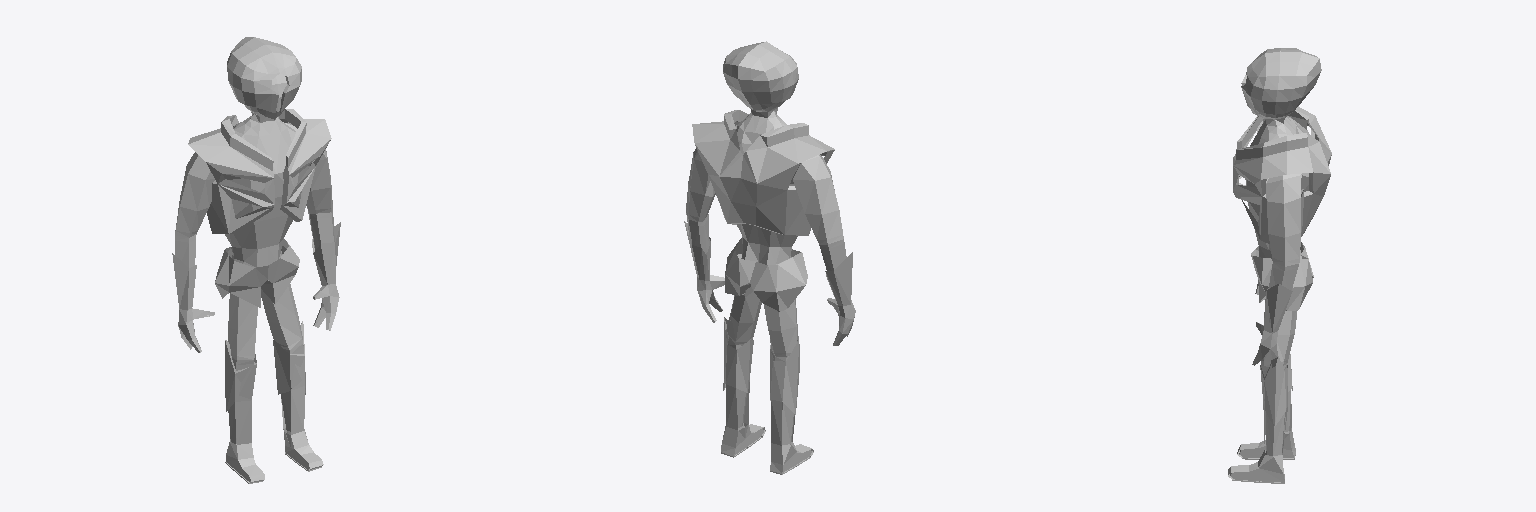
Rendered from dummy0.obj.
3 renders of one model, left to right at view 1: azimuth 30°, elevation 25°; view 2: azimuth 150°, elevation 25°; view 3: azimuth 270°, elevation 25°, orthographic.
Visible parts, largest first — view 1: Cube.001_Cube.006; view 2: Cube.001_Cube.006; view 3: Cube.001_Cube.006.
Boxes of the visible parts, box(x1,y1,x2,y2) form: Cube.001_Cube.006: box(172, 37, 340, 483); Cube.001_Cube.006: box(684, 41, 855, 474); Cube.001_Cube.006: box(1228, 48, 1331, 483).
Size of the model in its own units: 3.16 by 7.48 by 1.69.